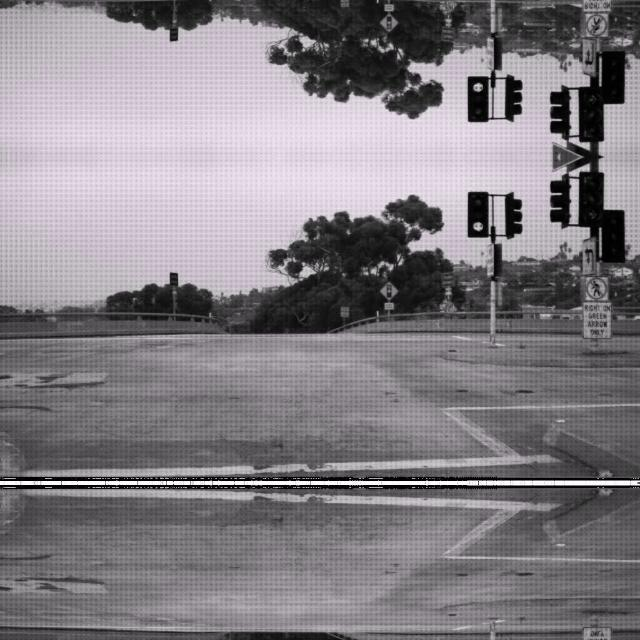signalAhead: (378, 279, 398, 299), (378, 13, 398, 33)
